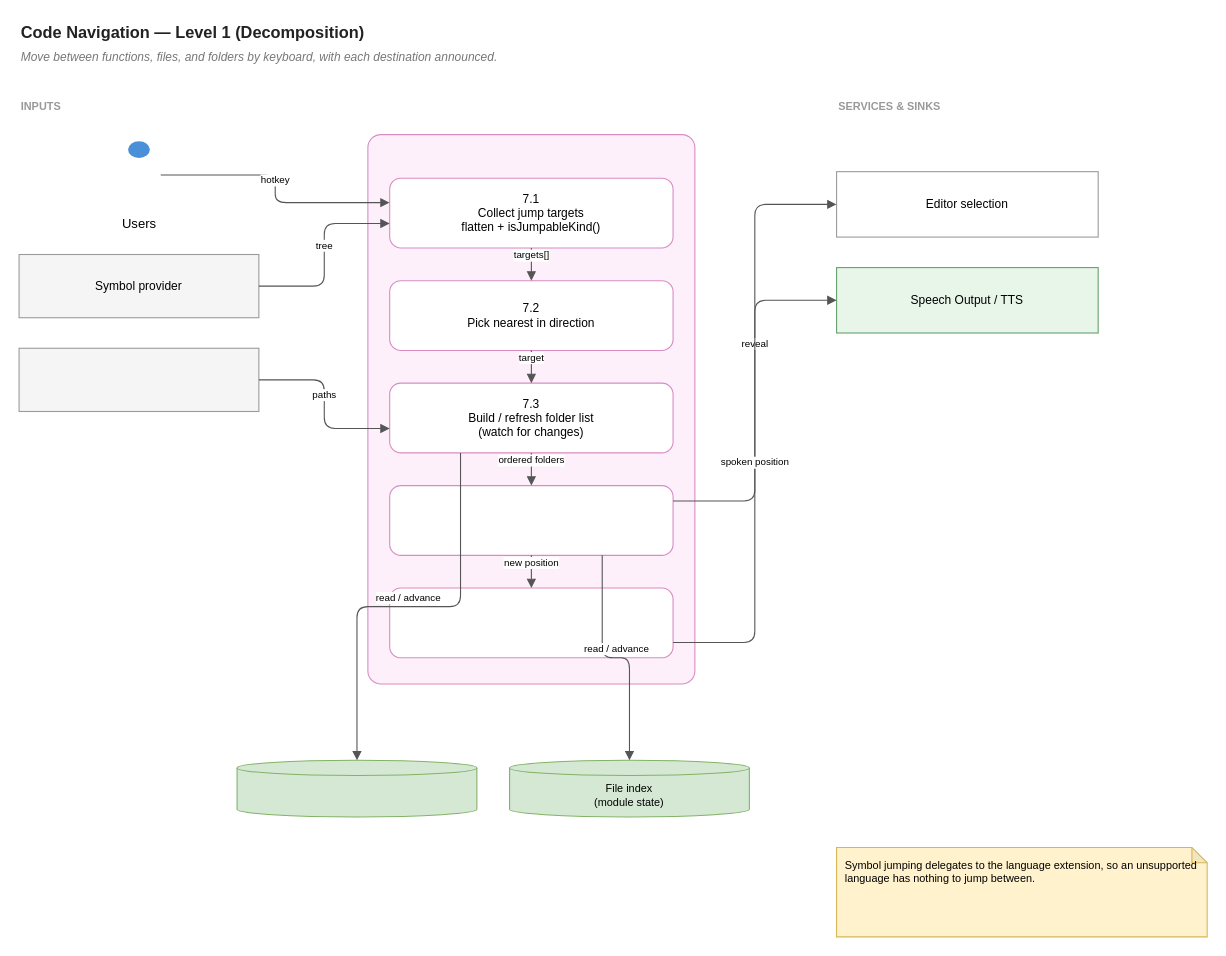
This 1226x956 diagram has some shape labels left out. The shapes that lost their labels are listed below. From the top down, each one's box as (x1, y1, x2, y2) in pixels, then its label:
(18, 347, 259, 411): Workspace folders
(367, 134, 695, 684): ECHOCODE CORE
(389, 485, 673, 555): 7.4 Move cursor or folder cursor
(389, 587, 673, 658): 7.5 Announce destination (name, line, enclosing symbol)
(236, 759, 477, 817): Folder index (module state)
